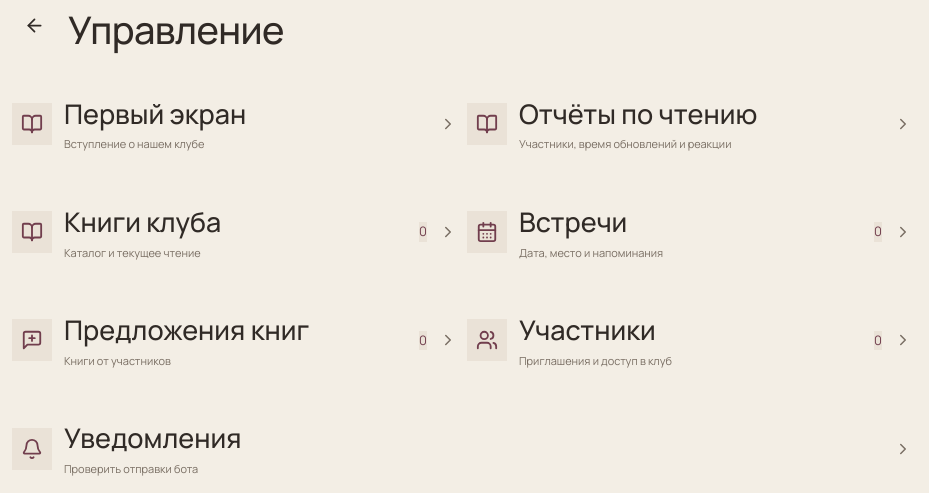
Scenario: управление открывается коротким меню, пустые предложения имеют понятное состояние
Step 1. Click the link "Предложения книг Книги от участников 0" → x=234, y=340, box [12,311,457,368]
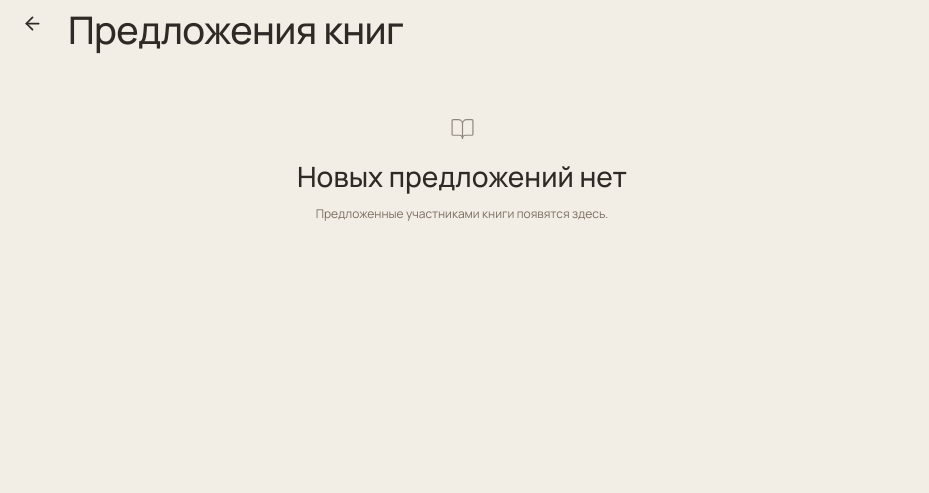
Check: the heading "Новых предложений нет" is shown, box [297,157,627,195]
